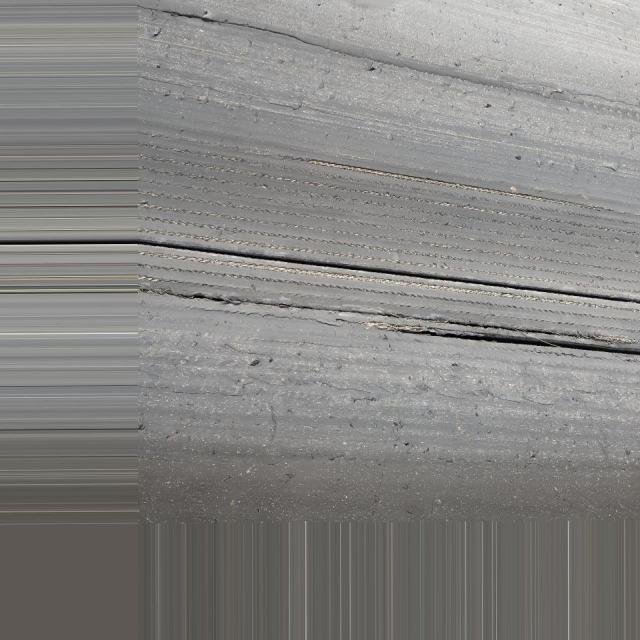Tear: (140, 226, 640, 306), (394, 316, 640, 362), (150, 1, 340, 58)
Wear: (138, 128, 640, 301)
